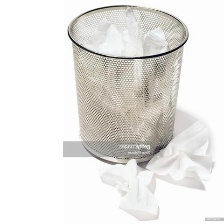tissue: (72, 3, 177, 154), (141, 101, 220, 194), (97, 154, 166, 223)
